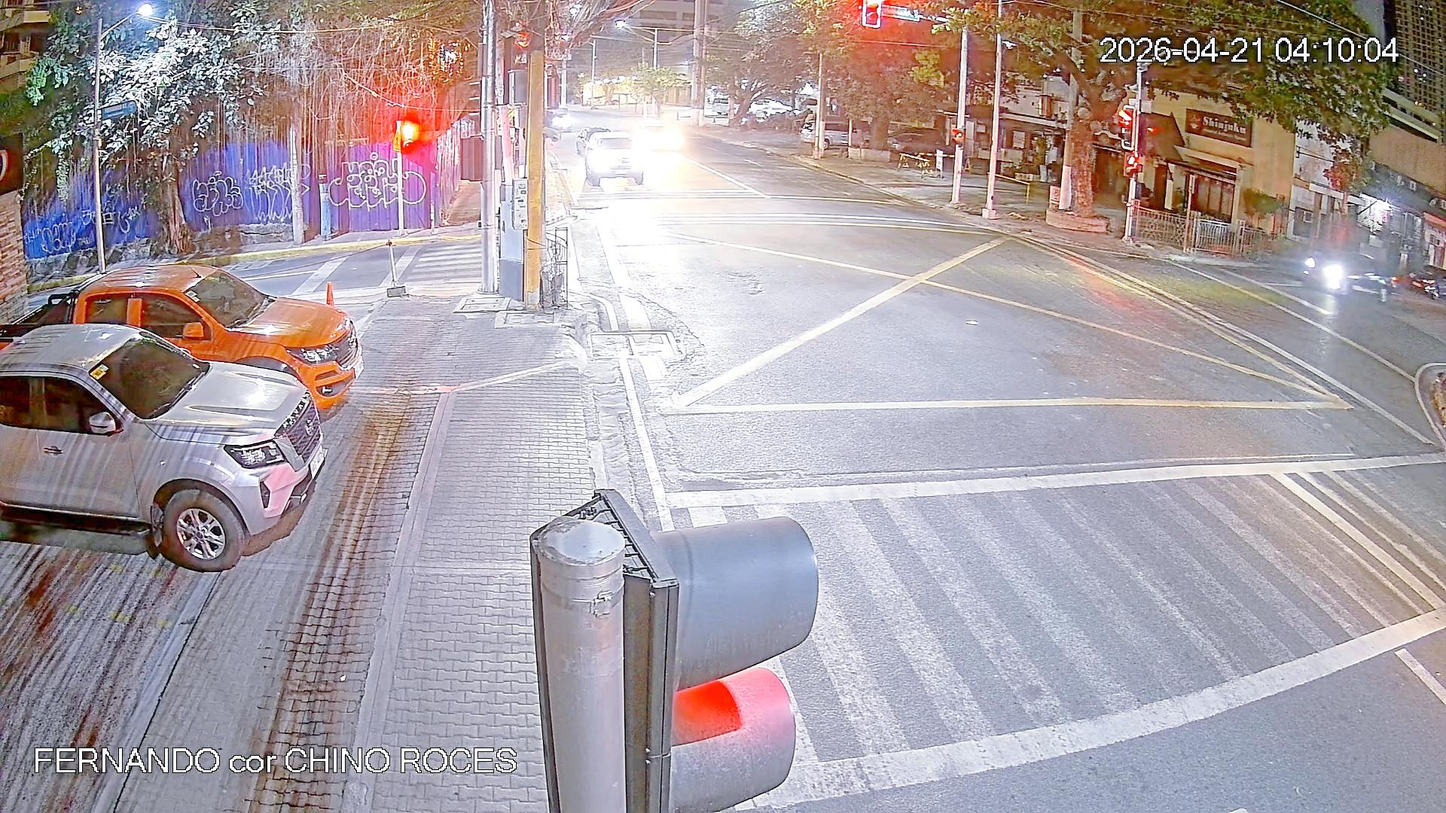Car: (0, 326, 330, 571), (42, 252, 383, 432), (1301, 235, 1408, 326), (581, 136, 653, 207), (801, 118, 866, 161), (705, 91, 752, 123)
